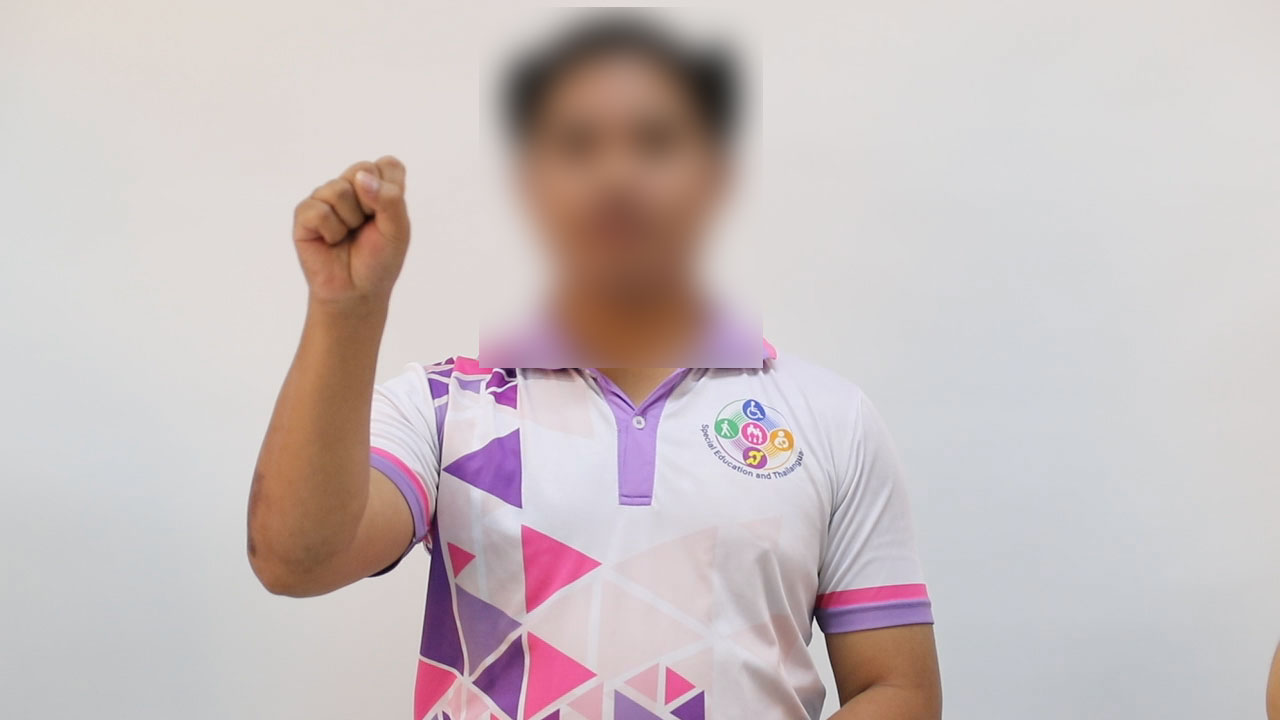sor: (276, 136, 429, 321)
